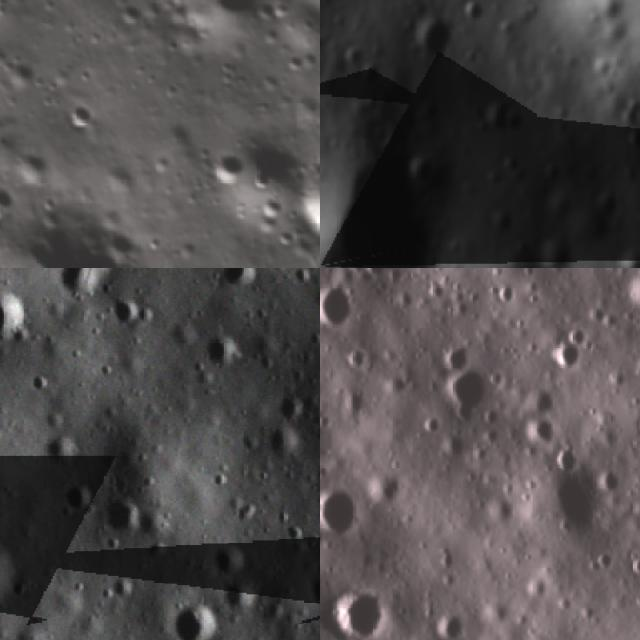crater: (530, 460, 623, 556), (320, 564, 407, 640), (320, 466, 385, 563), (432, 356, 504, 432), (282, 138, 320, 256), (0, 509, 32, 636), (320, 269, 370, 347), (514, 404, 577, 462), (94, 488, 148, 547), (0, 278, 42, 353), (539, 332, 598, 385), (43, 268, 120, 308), (162, 596, 231, 640), (38, 429, 94, 481), (56, 475, 106, 527), (200, 328, 250, 378), (217, 575, 266, 623), (202, 536, 253, 582), (262, 423, 310, 469), (415, 14, 458, 61), (101, 286, 144, 332), (0, 54, 45, 97), (392, 150, 436, 193), (269, 386, 312, 429), (104, 568, 144, 608), (62, 96, 100, 136), (209, 154, 247, 192), (8, 152, 45, 189), (617, 268, 640, 326), (214, 268, 263, 294), (377, 268, 440, 286), (141, 539, 177, 570), (131, 300, 165, 330), (279, 518, 311, 548), (298, 572, 320, 615), (0, 186, 20, 228), (27, 370, 55, 399), (11, 626, 56, 640), (305, 552, 320, 586), (264, 268, 299, 279)
